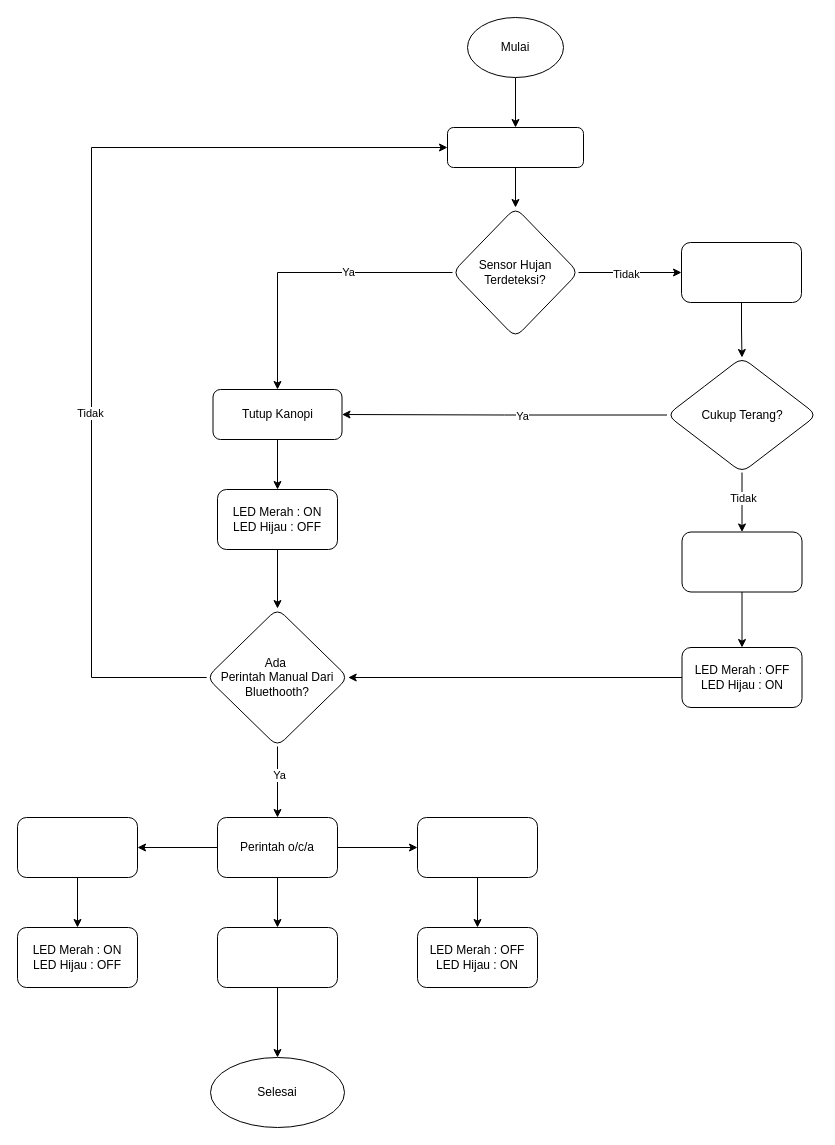
The diagram is 835 pixels wide and 1145 high, and some of its shapes have lost their labels. The shapes that lost their labels are listed below. From the top down, each one's box as (x1, y1, x2, y2) in pixels, then its label:
(446, 126, 584, 168): Inisialisasi Komponen
(680, 242, 802, 302): Periksa Sensor LDR
(681, 531, 802, 592): Buka Kanopi
(16, 816, 138, 878): Perintah c Tutup Kanopi
(416, 816, 538, 878): Perintah o Buka Kanopi
(216, 926, 338, 988): Perintah a Change Mode
